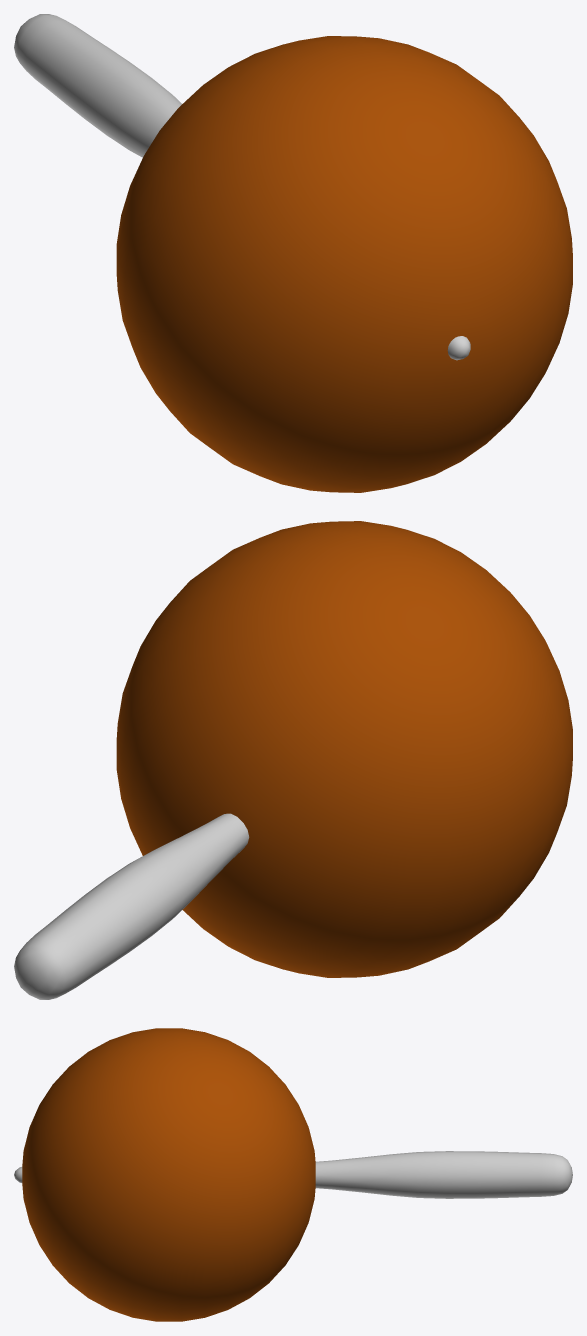
The model's file is Maraca.obj.
3 renders of one model, top to bottom at view 1: azimuth 30°, elevation 25°; view 2: azimuth 150°, elevation 25°; view 3: azimuth 270°, elevation 25°, orthographic. The views are drawn at different scales.
Parts seen in each view (by area): view 1: Guiro, Mango01; view 2: Guiro, Mango01; view 3: Guiro, Mango01.
Boxes of the visible parts, x1=… form: Guiro: x1=116, y1=36, x2=572, y2=492; Mango01: x1=14, y1=14, x2=470, y2=360; Guiro: x1=116, y1=521, x2=572, y2=977; Mango01: x1=14, y1=813, x2=249, y2=999; Guiro: x1=22, y1=1028, x2=315, y2=1321; Mango01: x1=14, y1=1151, x2=572, y2=1198.
Bounding box in the file's own units: 79.46 × 79.73 × 152.
